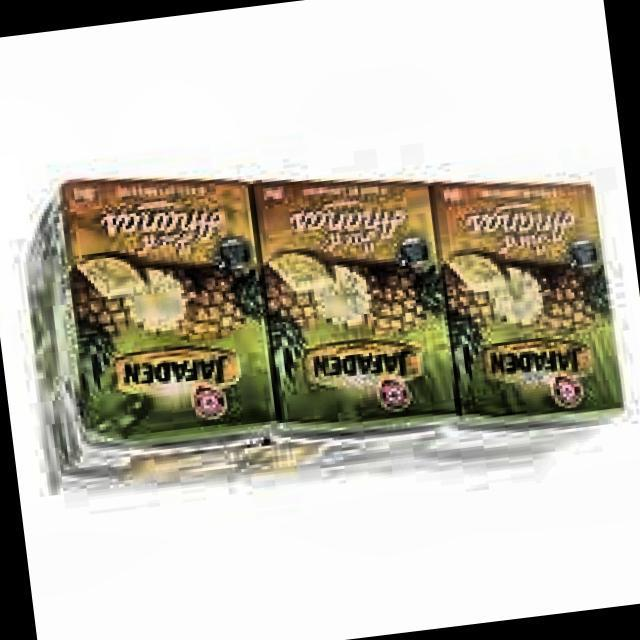cardboard: (12, 118, 630, 513)
